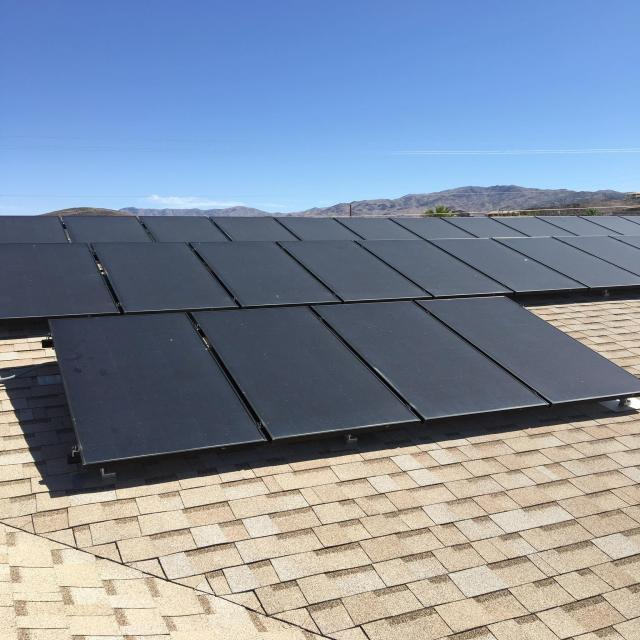dust-solar-panel: (40, 298, 640, 472)
